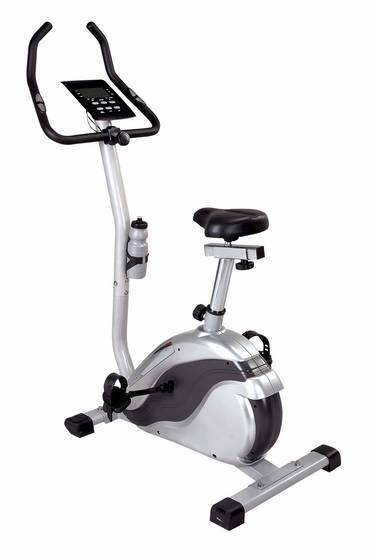gym_bike: (13, 24, 347, 535)
